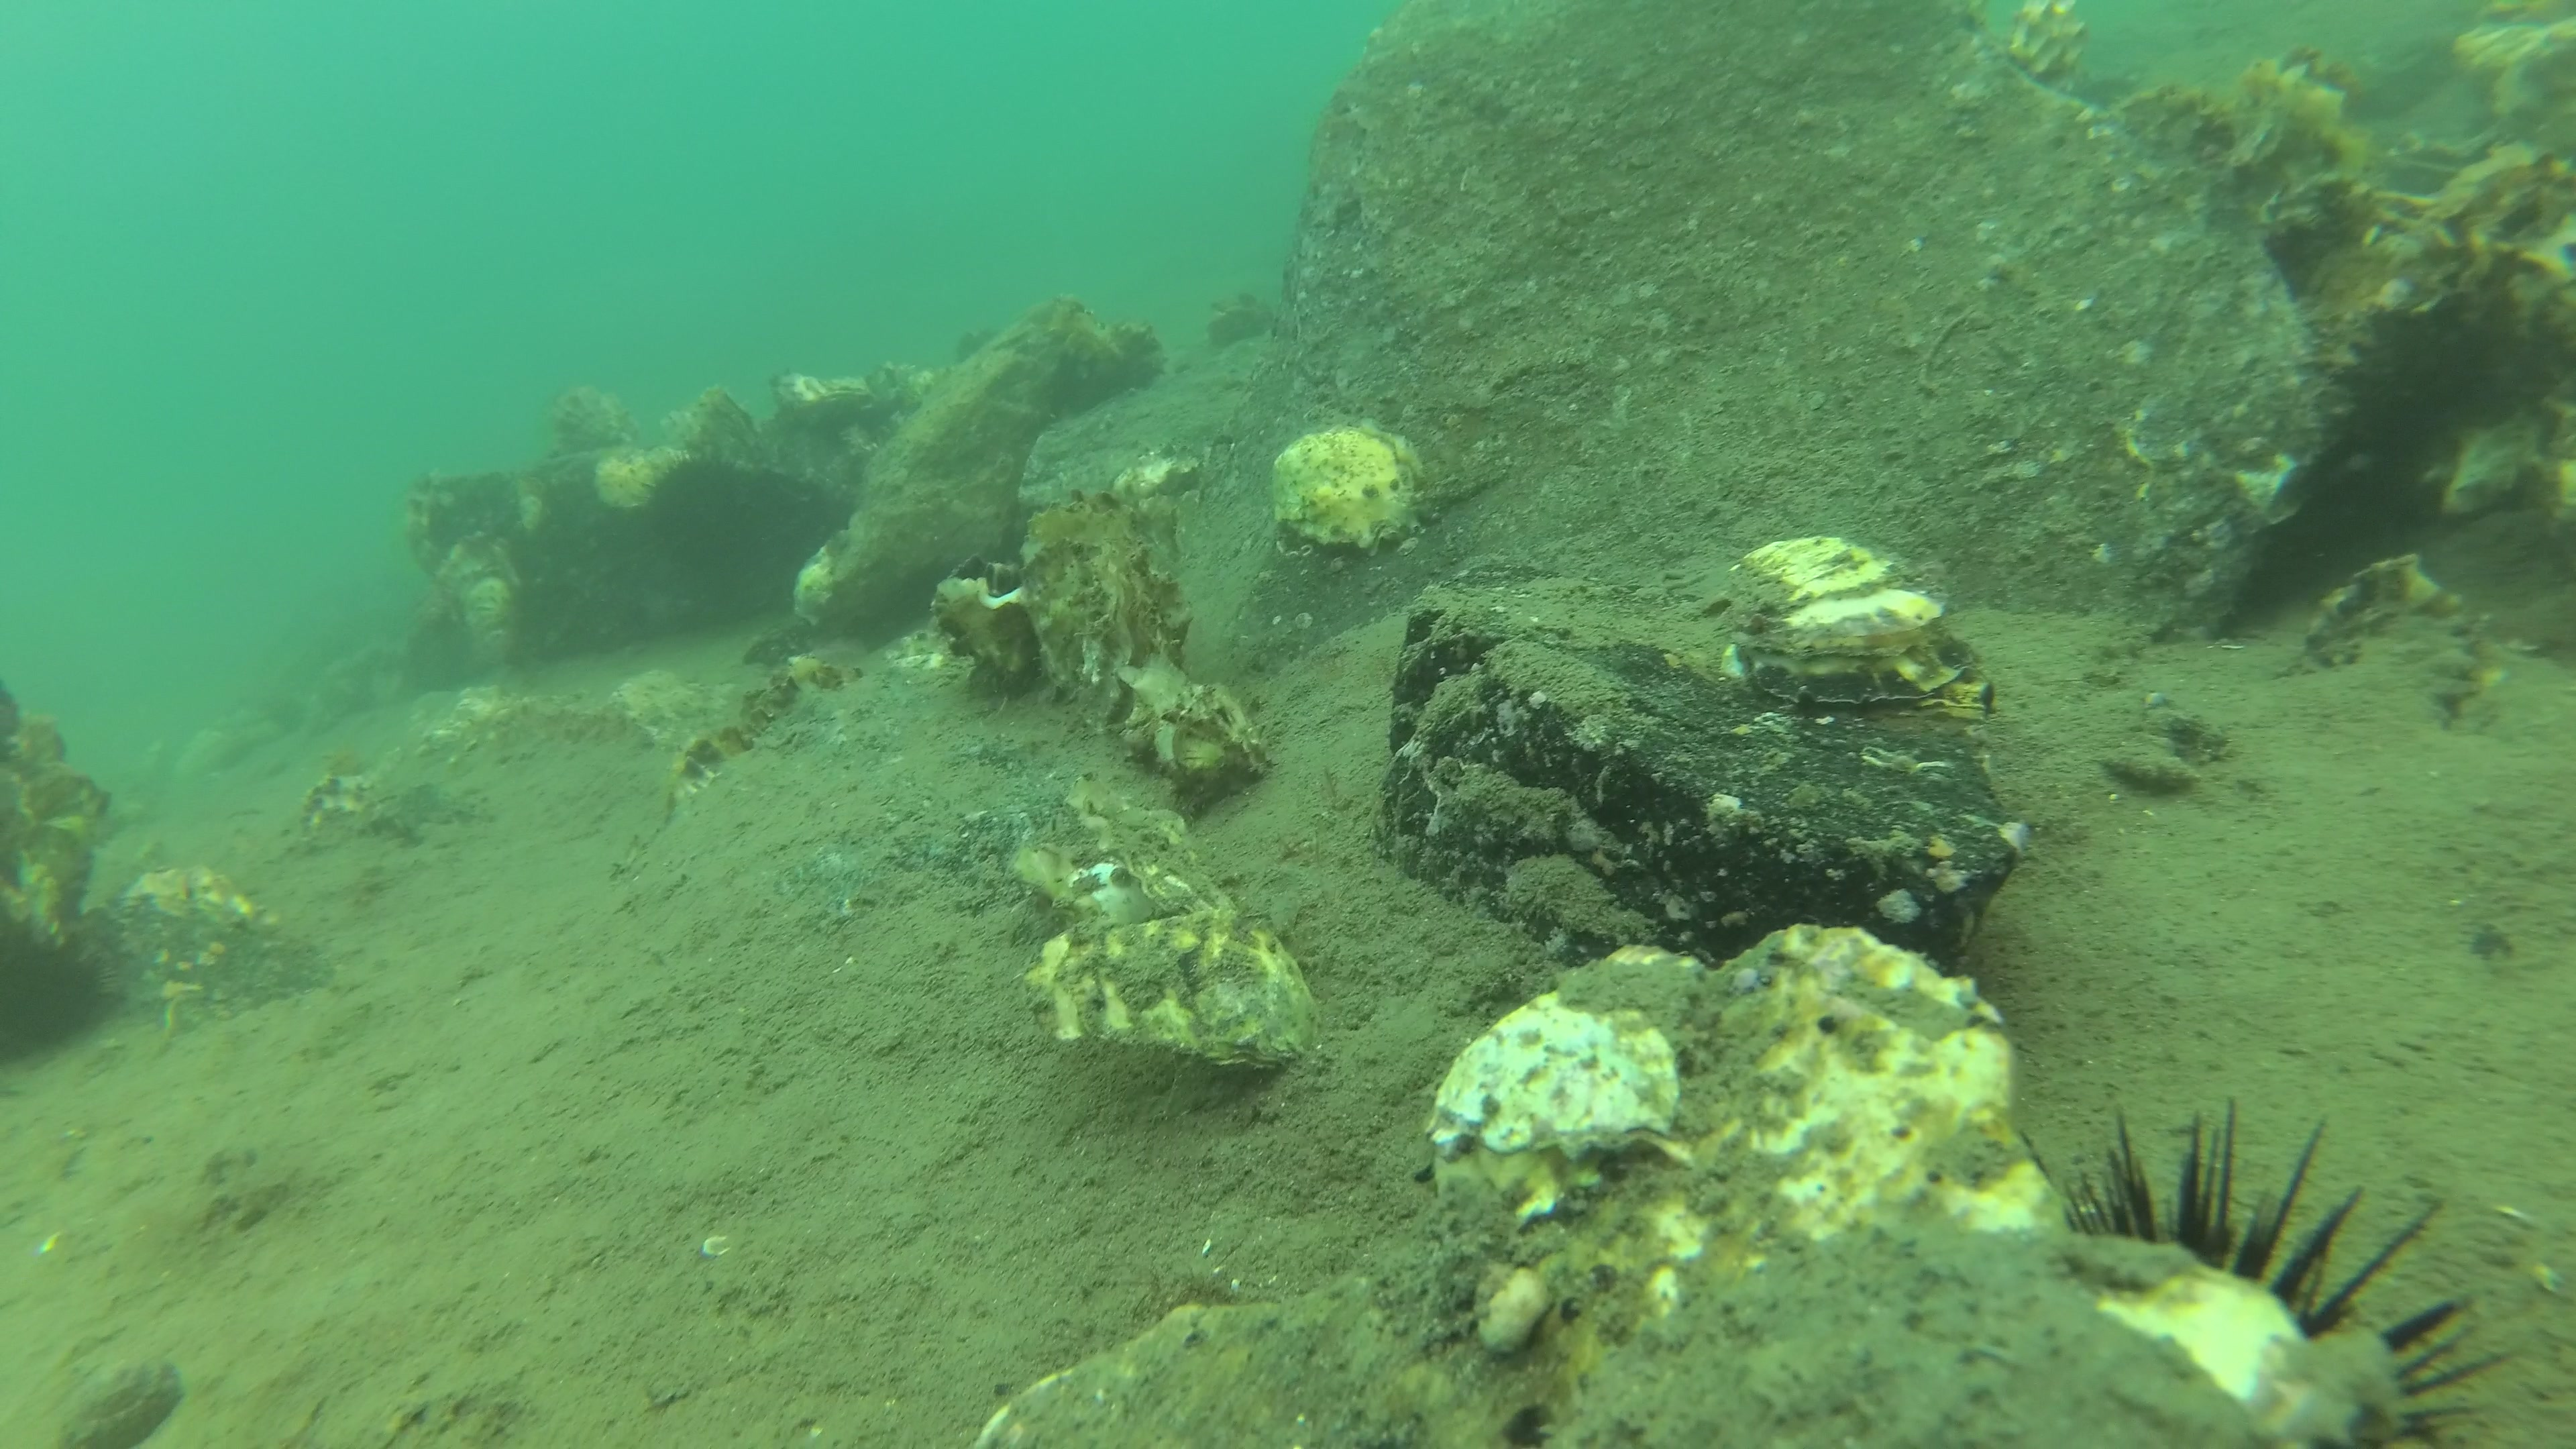echinus: (2015, 1092, 2518, 1449), (0, 908, 124, 1063), (630, 444, 780, 570)
